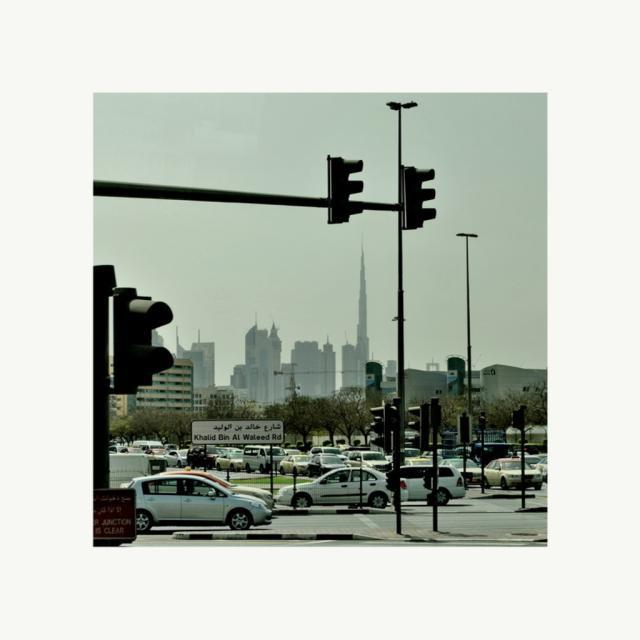off traffic light: (115, 285, 178, 388), (329, 153, 367, 226), (405, 163, 439, 230), (365, 401, 392, 455), (406, 404, 428, 452)
